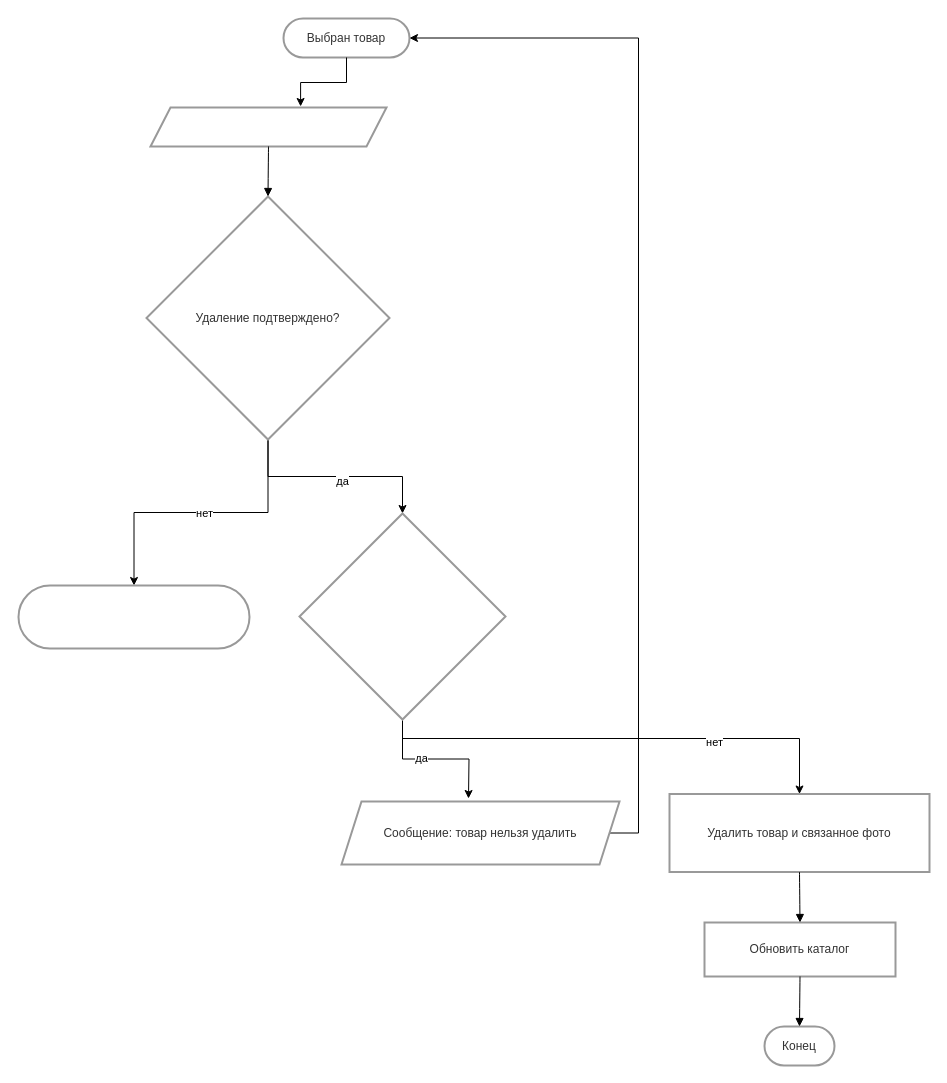
The diagram is 947 pixels wide and 1083 high, and some of its shapes have lost their labels. The shapes that lost their labels are listed below. From the top down, each one's centre as x and y in pixels, then its label:
(x=268, y=126): Нажать «Удалить товар»
(x=133, y=616): Отмена: каталог без изменений
(x=402, y=616): Товар есть в заказе?
